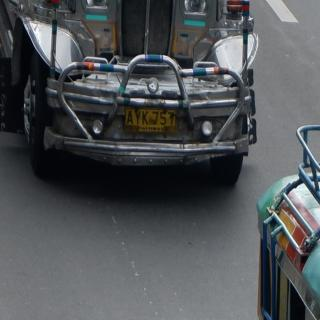license: (125, 109, 177, 133)
